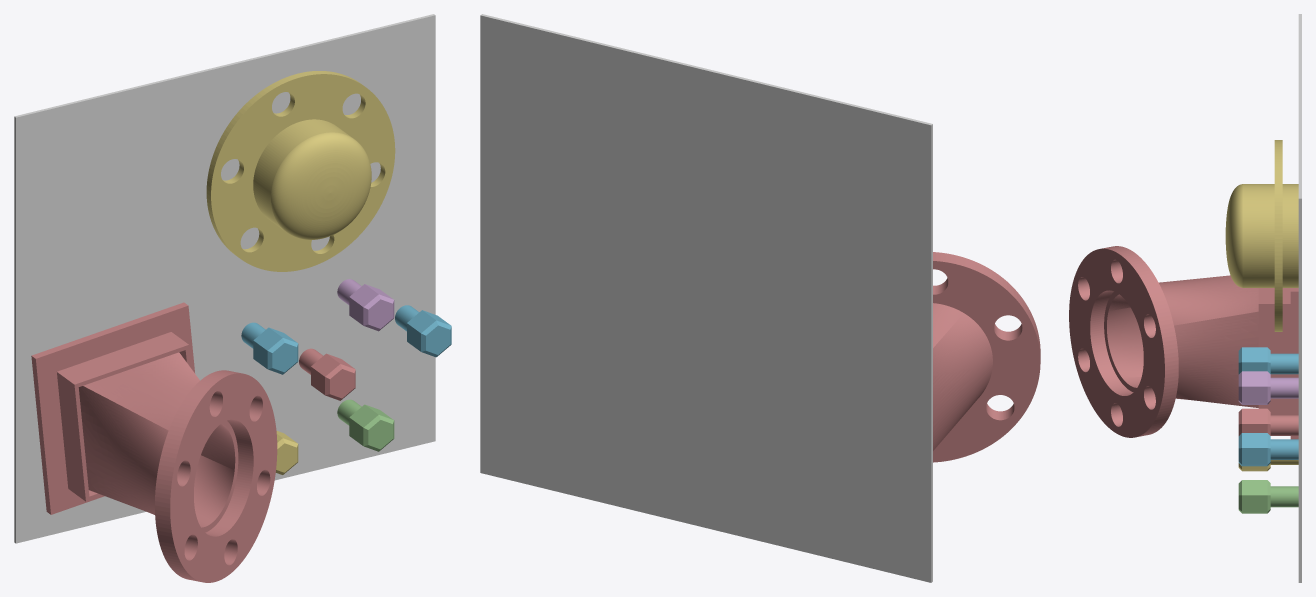
File: pickup_layout.glb
3 views of the same model, side by side, from view 1: azimuth 30°, elevation 25°; view 2: azimuth 150°, elevation 25°; view 3: azimuth 270°, elevation 25° (orthographic). The views are drawn at different scales.
Parts seen in each view (by area): view 1: world, 0.obj, 1.obj, 4.obj, 2.obj, 3.obj, 7.obj, 5.obj, 6.obj; view 2: world, 0.obj; view 3: 0.obj, 1.obj, world, 3.obj, 4.obj, 7.obj, 2.obj, 5.obj, 6.obj.
Boxes of the visible parts, bbox=[...] form: world: bbox=[14, 14, 435, 543]; 0.obj: bbox=[31, 302, 277, 582]; 1.obj: bbox=[206, 71, 395, 271]; 4.obj: bbox=[337, 399, 394, 451]; 2.obj: bbox=[241, 322, 298, 374]; 3.obj: bbox=[337, 279, 394, 331]; 7.obj: bbox=[395, 305, 451, 357]; 5.obj: bbox=[299, 348, 355, 400]; 6.obj: bbox=[275, 431, 298, 474]; world: bbox=[480, 14, 932, 582]; 0.obj: bbox=[933, 252, 1040, 462]; 0.obj: bbox=[1069, 246, 1298, 439]; 1.obj: bbox=[1225, 140, 1298, 331]; world: bbox=[1298, 14, 1301, 582]; 3.obj: bbox=[1238, 371, 1298, 404]; 4.obj: bbox=[1238, 480, 1298, 513]; 7.obj: bbox=[1238, 433, 1298, 466]; 2.obj: bbox=[1238, 347, 1298, 374]; 5.obj: bbox=[1238, 408, 1298, 435]; 6.obj: bbox=[1238, 460, 1298, 471].
Size of the model in its own units: 27.34 by 26.52 by 14.57.
